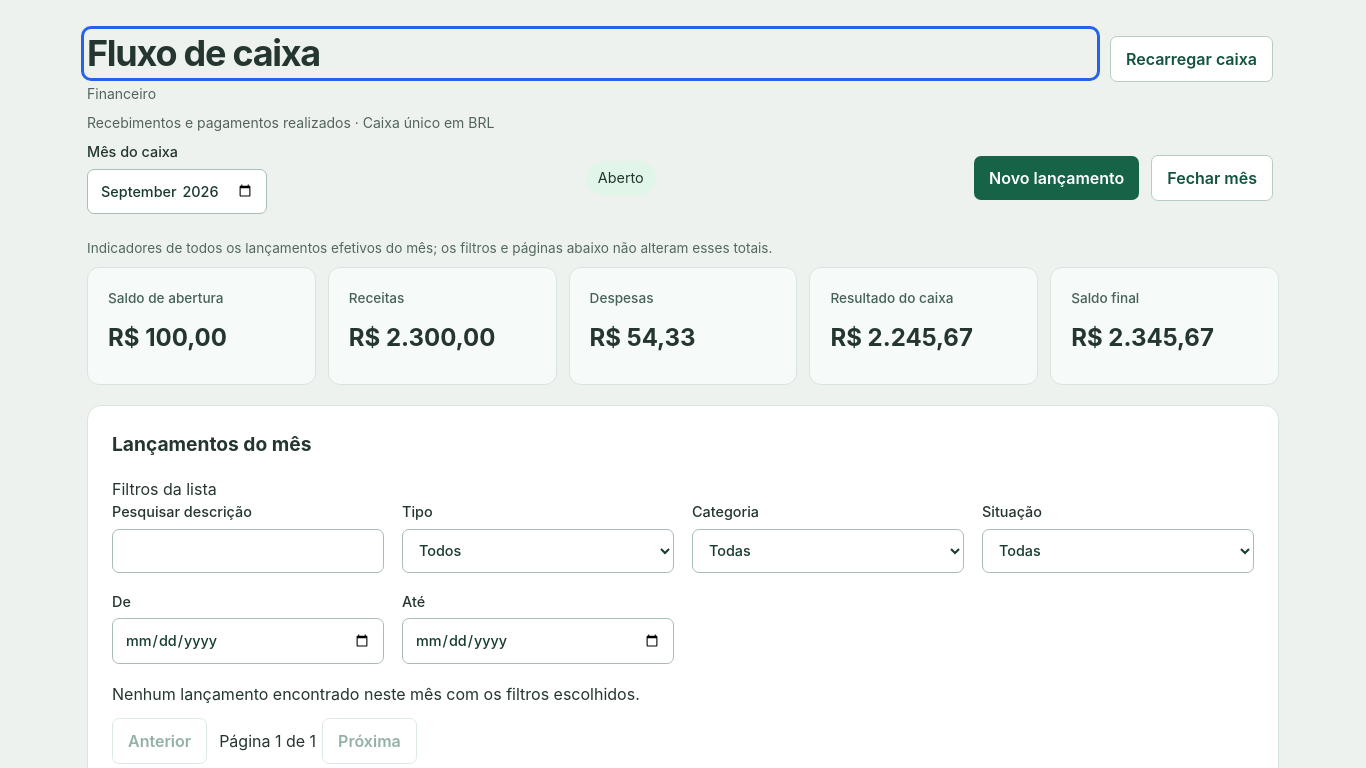
Test case: Caixa durante a consulta de outro mês › não oferece ações nem vazio para consulta recusada com HTTP 401
The width and height of the screenshot is (1366, 768).
Check: the text "R$ 2.345,67" is shown, box [1071, 323, 1214, 352]
Step 1. Replace the text in the field labelled "Mês do caixa" with "2026-08" → (177, 192), box [87, 169, 267, 214]
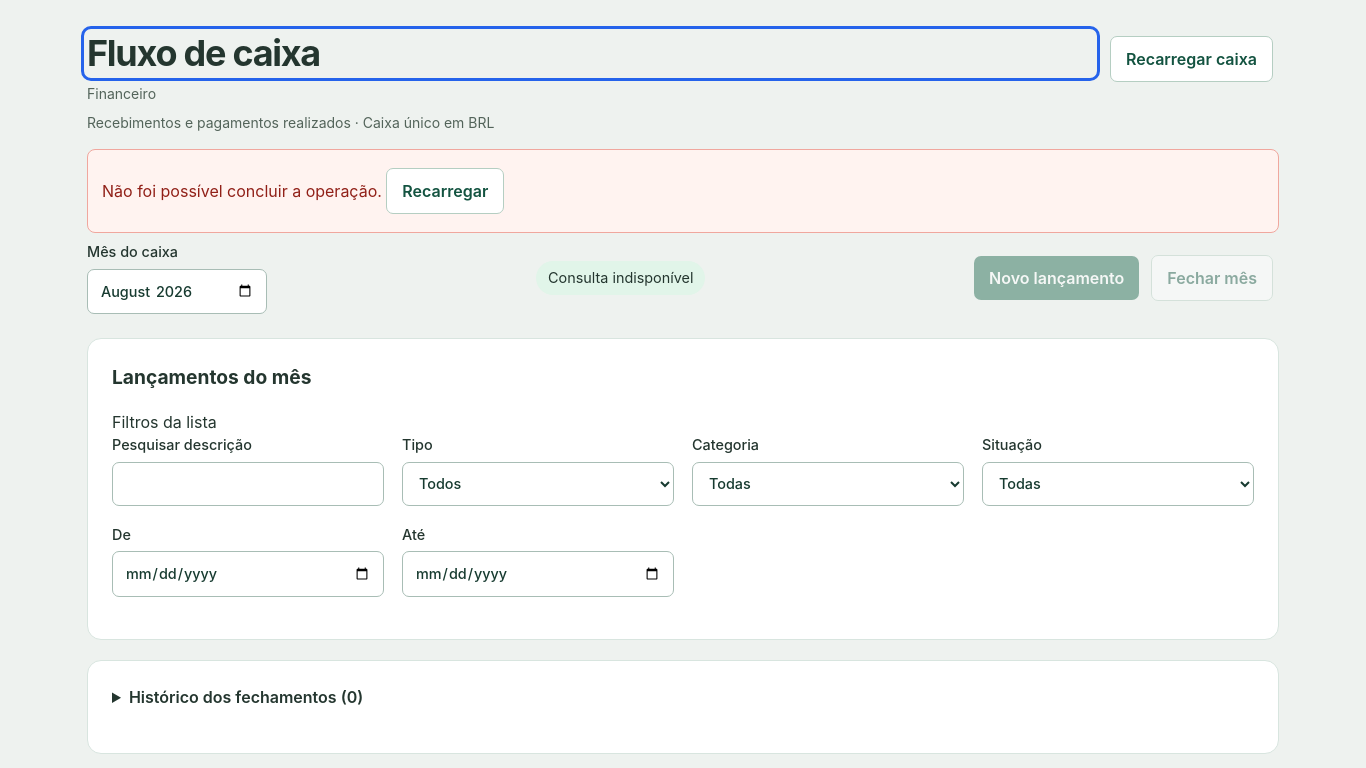
Check: the message "Não foi possível concluir a operação. Recarregar" is shown, box [87, 149, 1279, 233]
Check: the text "Nenhum lançamento encontrado" is gone
Check: the button "Novo lançamento" is disabled, box [974, 256, 1139, 300]
